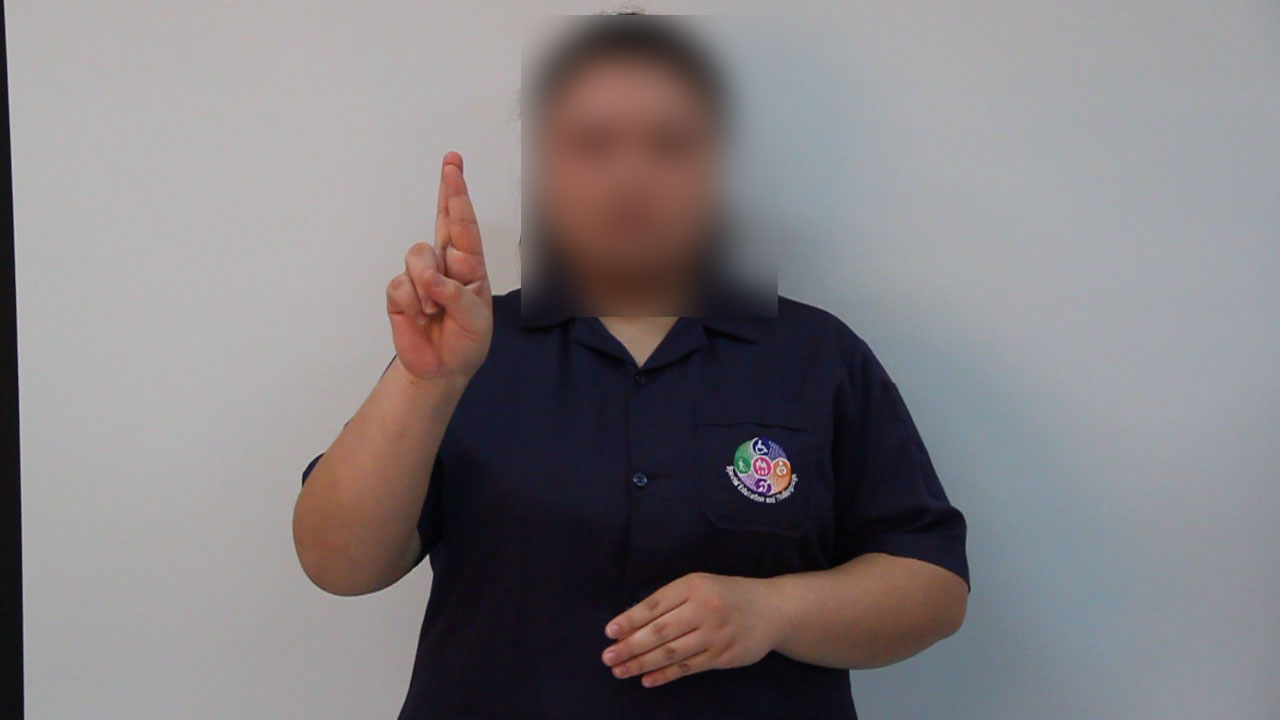rao: (365, 141, 496, 421)
